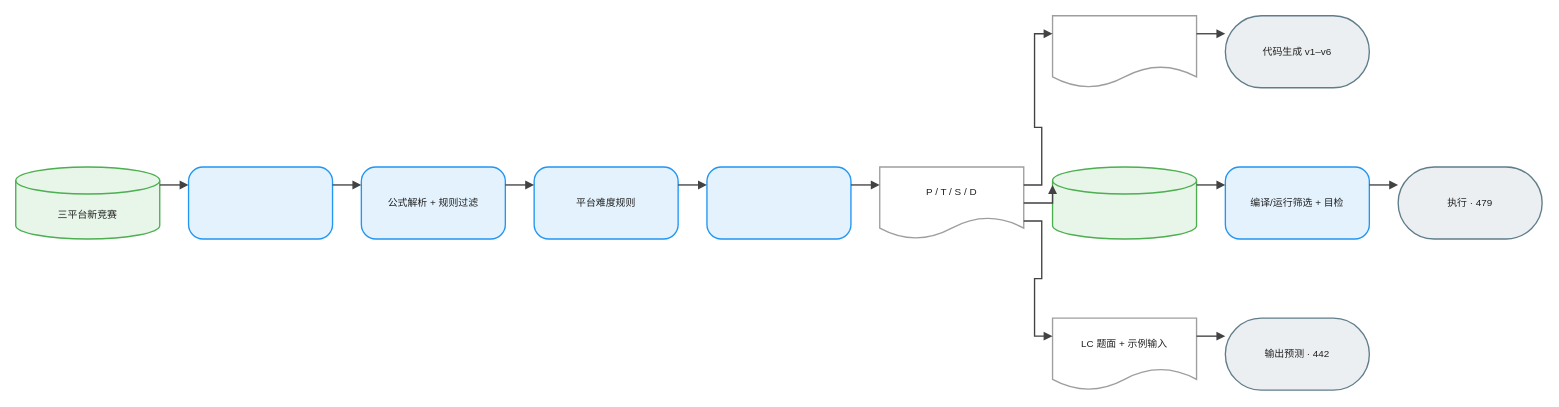
Some shapes in this 1559 by 407 pixel diagram are drawn without their labels. Here are the shapes that lost their labels. From the top down, the centre of each, then its label:
At (x=1124, y=51): "生成 + 修复题源".
At (x=260, y=202): "公开 HTML 抓取".
At (x=778, y=202): "测试收集 + 补全".
At (x=1124, y=202): "约 2,000 人工解".
